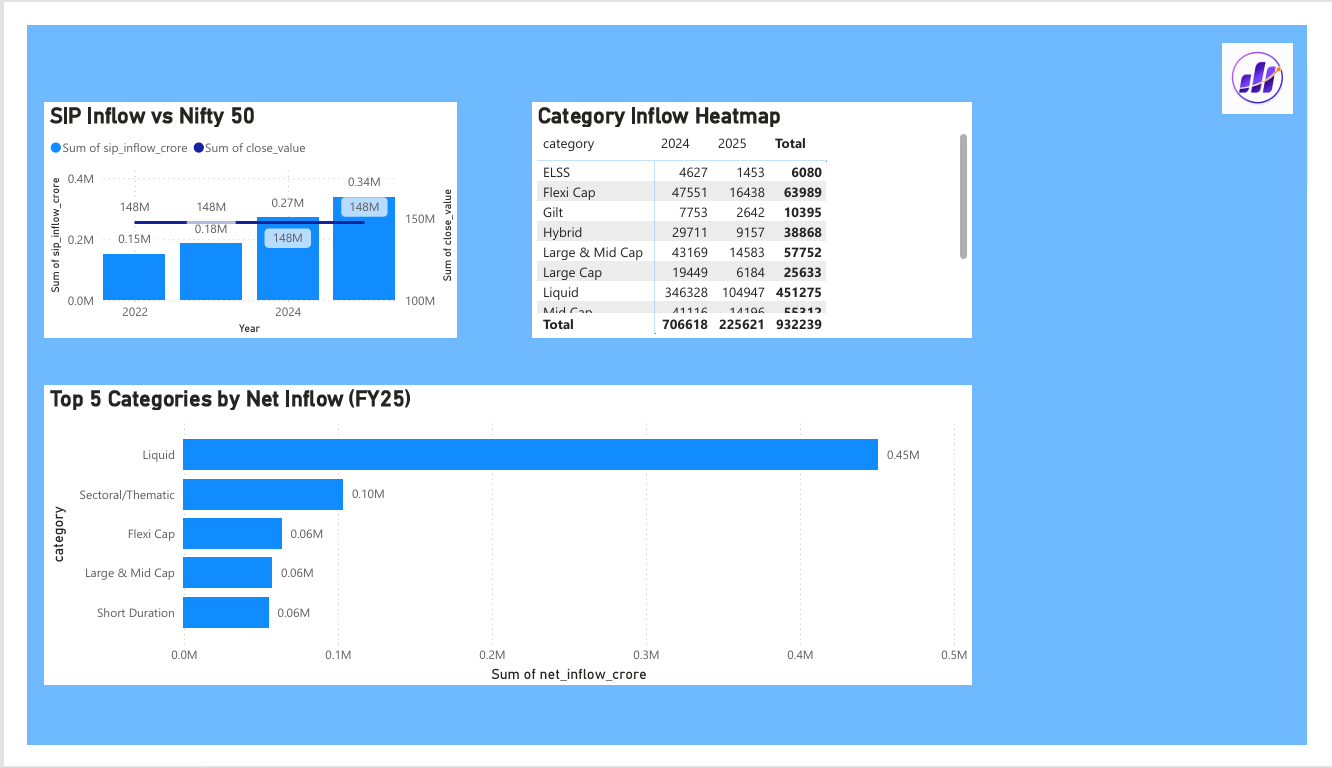

This screenshot's page, from the dashboard's own definition file:
{"tool":"powerbi","page":{"name":"SIP & Market Trends","canvas":[1280,720],"ordinal":3},"visuals":[{"type":"image","box":[1195,11.7,70,81.7],"z":0},{"type":"lineClusteredColumnComboChart","title":"SIP Inflow vs Nifty 50","fields":{"Category":["04_monthly_sip_inflows.month.Variation.Date Hierarchy.Year"],"Y":["Sum(04_monthly_sip_inflows.sip_inflow_crore)"],"Y2":["Sum(10_benchmark_indices.close_value)"]},"box":[16.7,76.7,413.3,236.7],"z":1000},{"type":"pivotTable","title":"Category Inflow Heatmap","fields":{"Values":["Sum(05_category_inflows.net_inflow_crore)"],"Rows":["05_category_inflows.category"],"Columns":["05_category_inflows.month.Variation.Date Hierarchy.Year"]},"box":[505,76.7,440,236.7],"z":2000},{"type":"clusteredBarChart","title":"Top 5 Categories by Net Inflow (FY25)","fields":{"Category":["05_category_inflows.category"],"Y":["Sum(05_category_inflows.net_inflow_crore)"]},"box":[16.7,360,928.3,300],"z":3000}]}

Visuals, with their boxes in screenshot pixels (x1, y1, x2, y2), scaled from the page's 1280x720 canvas onto the 1332x768 screenshot:
image: (1244,12,1316,100)
"SIP Inflow vs Nifty 50" lineClusteredColumnComboChart: (17,82,447,334)
"Category Inflow Heatmap" pivotTable: (526,82,983,334)
"Top 5 Categories by Net Inflow (FY25)" clusteredBarChart: (17,384,983,704)
